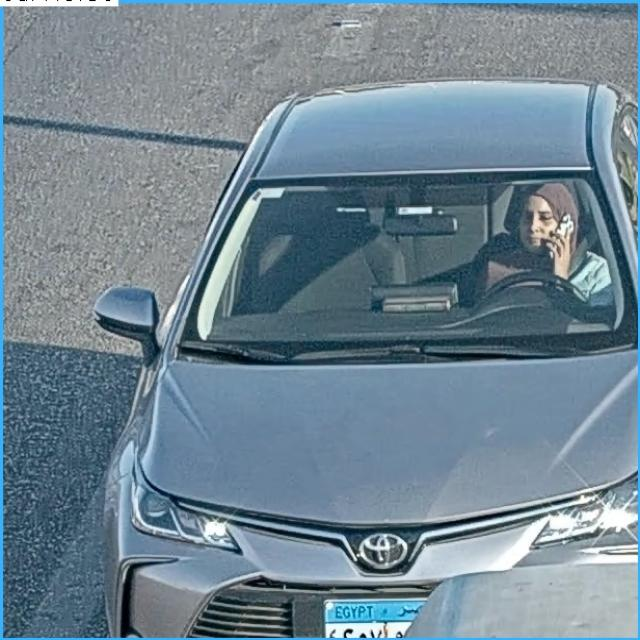windshield: (176, 180, 632, 348)
